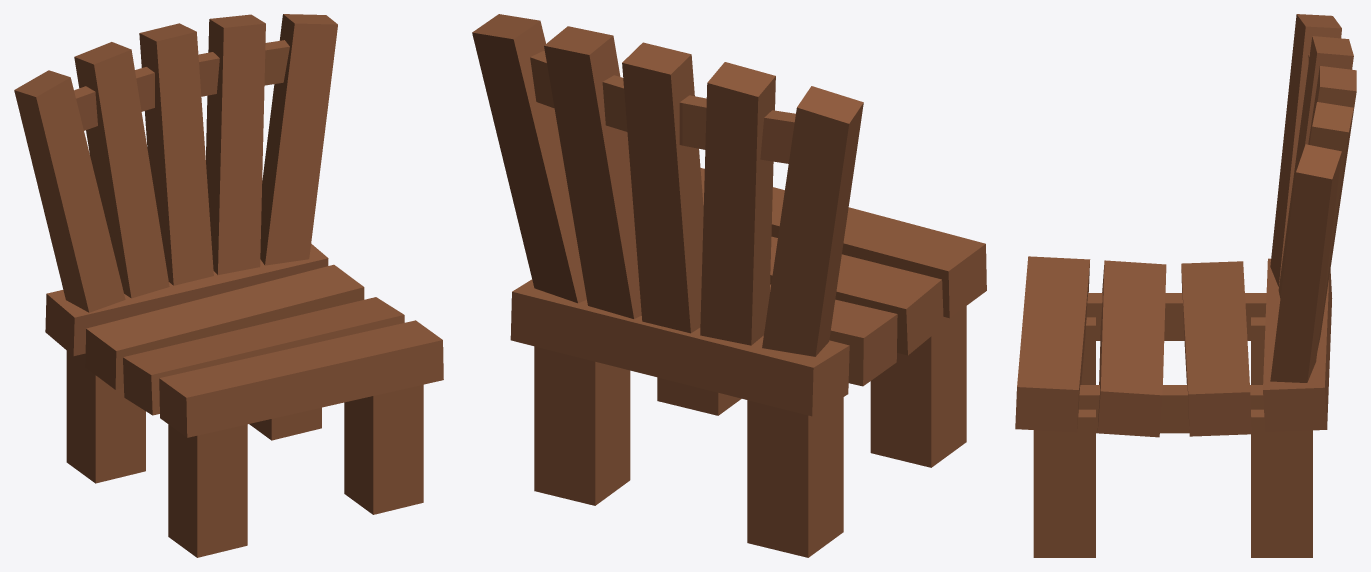
File: Chair.glb
The picture shows the model from 3 angles, left to right: view 1: azimuth 30°, elevation 25°; view 2: azimuth 150°, elevation 25°; view 3: azimuth 270°, elevation 25°; orthographic projection. The views are drawn at different scales.
Visible parts, largest first — view 1: Cube; view 2: Cube; view 3: Cube.
Part boxes in pixels (bbox=[...]): Cube: bbox=[14, 14, 443, 557]; Cube: bbox=[472, 14, 986, 557]; Cube: bbox=[1015, 14, 1356, 557].
Size of the model in its own units: 2.48 by 3.01 by 2.2.
